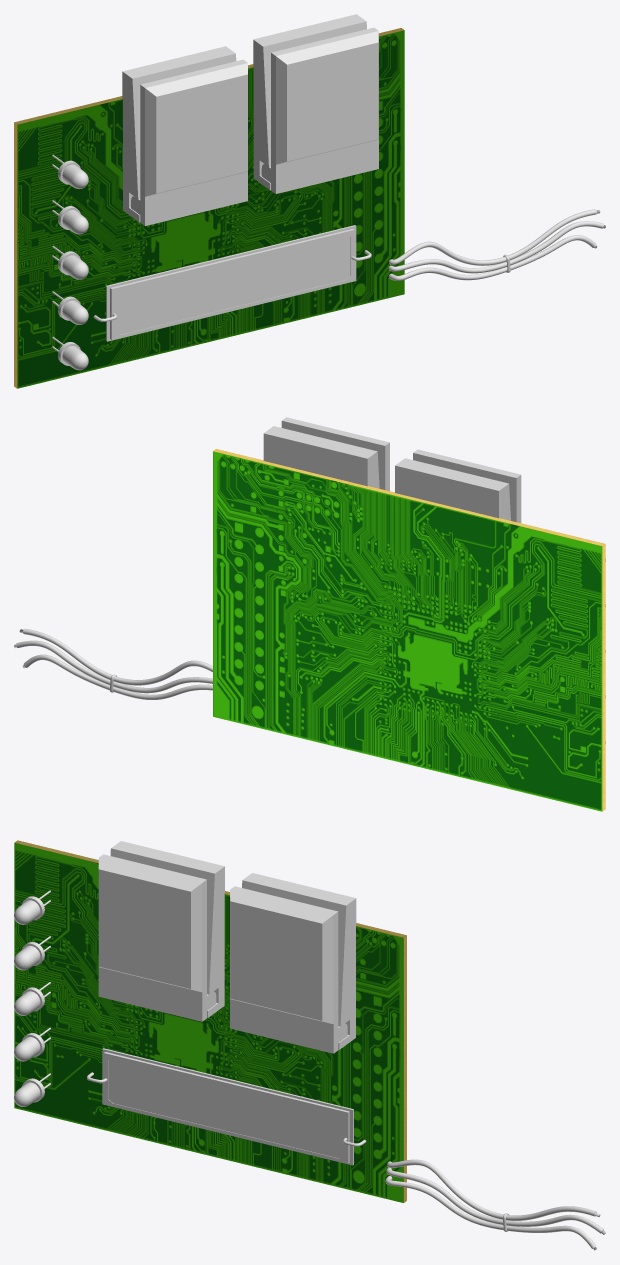
Rendered from platine.fbx.
The picture shows the model from 3 angles, top to bottom: view 1: azimuth 30°, elevation 25°; view 2: azimuth 150°, elevation 25°; view 3: azimuth 330°, elevation 25°; orthographic projection.
Visible parts, largest first — view 1: object_NNN5, Undo, End, Balancegrad, Kabel1, Kabel2, Kabel3, Led3, Led5, Led2, Led4, Led1; view 2: object_NNN5, Undo, End, Kabel1, Kabel2, Kabel3; view 3: object_NNN5, End, Undo, Balancegrad, Kabel2, Kabel1, Kabel3, Led2, Led5, Led1, Led3, Led4.
Part boxes in pixels (bbox=[...]): object_NNN5: bbox=[14, 28, 404, 388]; Undo: bbox=[253, 14, 378, 193]; End: bbox=[122, 46, 247, 225]; Balancegrad: bbox=[106, 225, 356, 341]; Kabel1: bbox=[389, 209, 600, 265]; Kabel2: bbox=[388, 221, 605, 273]; Kabel3: bbox=[388, 235, 597, 280]; Led3: bbox=[58, 251, 88, 279]; Led5: bbox=[58, 342, 88, 370]; Led2: bbox=[58, 206, 88, 234]; Led4: bbox=[58, 296, 88, 324]; Led1: bbox=[58, 160, 88, 189]; object_NNN5: bbox=[213, 449, 605, 811]; Undo: bbox=[263, 417, 389, 491]; End: bbox=[395, 449, 521, 522]; Kabel1: bbox=[19, 628, 212, 685]; Kabel2: bbox=[14, 640, 212, 693]; Kabel3: bbox=[22, 654, 212, 699]; object_NNN5: bbox=[14, 840, 406, 1202]; End: bbox=[98, 841, 224, 1021]; Undo: bbox=[230, 873, 356, 1053]; Balancegrad: bbox=[102, 1048, 353, 1165]; Kabel2: bbox=[386, 1167, 605, 1234]; Kabel1: bbox=[387, 1159, 600, 1220]; Kabel3: bbox=[385, 1176, 596, 1250]; Led2: bbox=[14, 942, 44, 970]; Led5: bbox=[14, 1078, 44, 1106]; Led1: bbox=[14, 896, 44, 924]; Led3: bbox=[14, 987, 44, 1015]; Led4: bbox=[14, 1033, 44, 1061].
Bounding box in the file's own units: 33.59 × 16.08 × 3.43.
